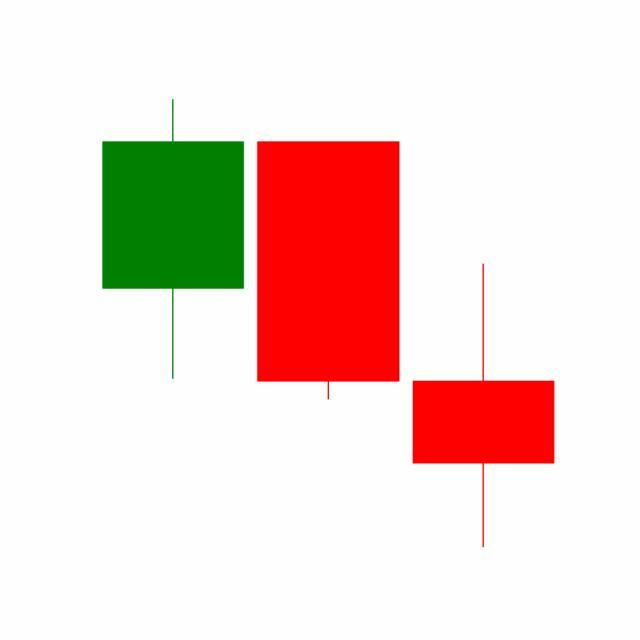Spinning Top: (406, 261, 562, 551)
